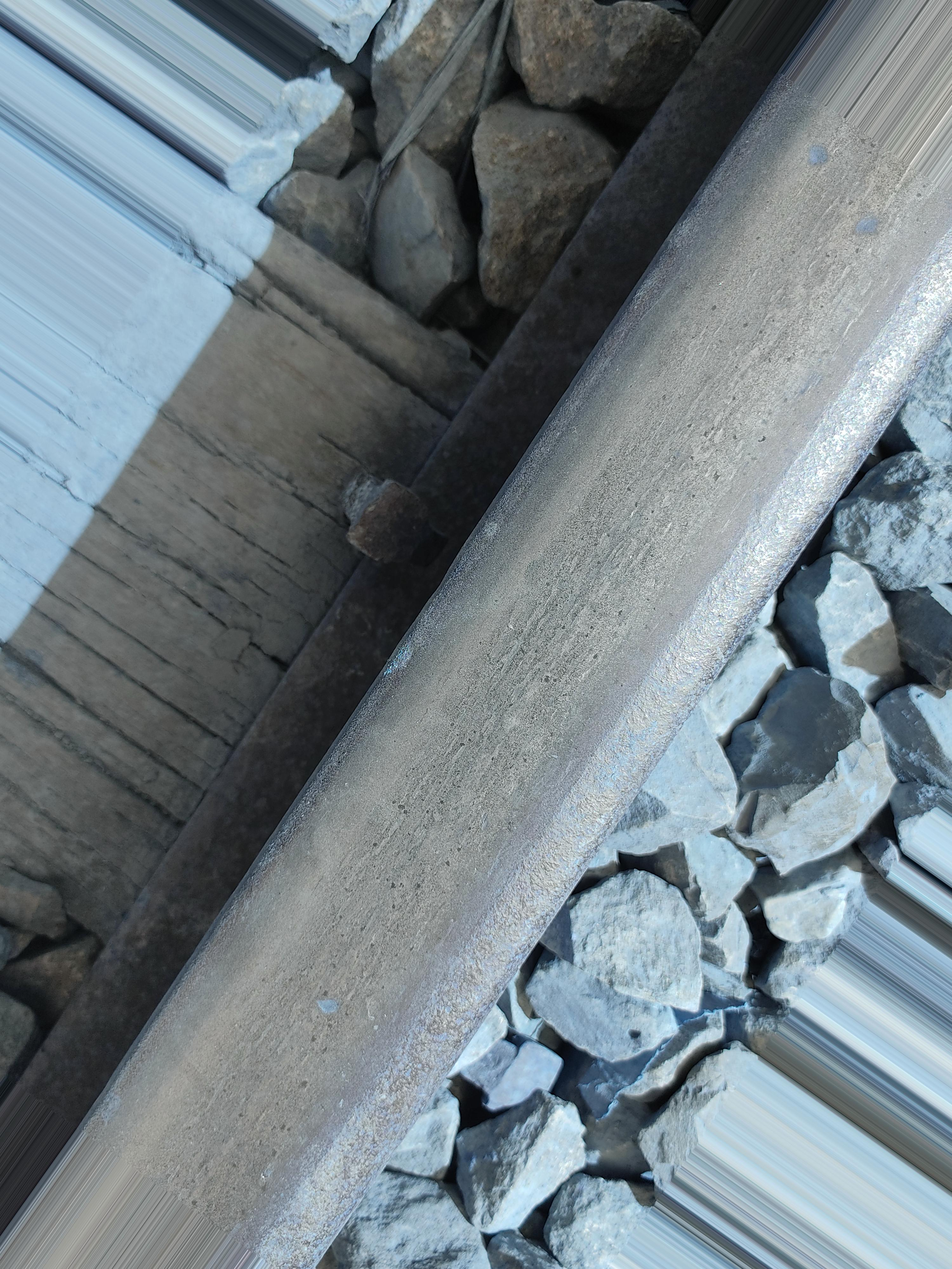tracks_fault: (263, 423, 710, 962)
